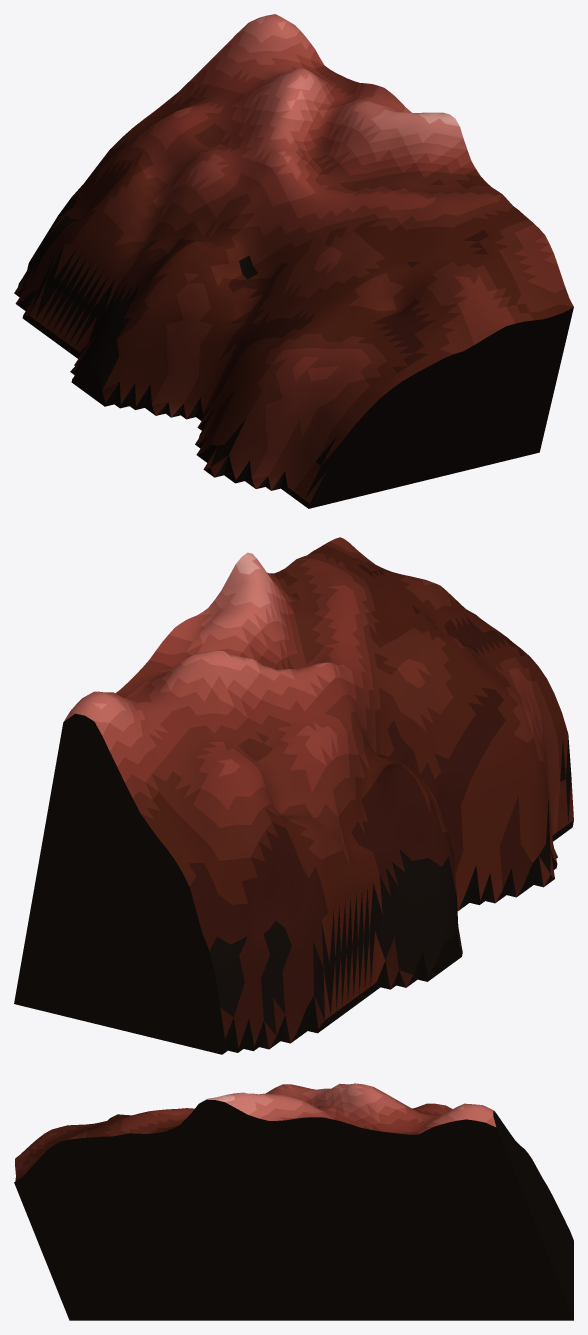
Rendered from brain_mid_1.glb.
3 renders of one model, top to bottom at view 1: azimuth 30°, elevation 25°; view 2: azimuth 150°, elevation 25°; view 3: azimuth 270°, elevation 25°, orthographic. The views are drawn at different scales.
Parts seen in each view (by area): view 1: brain_mid_1; view 2: brain_mid_1; view 3: brain_mid_1.
Boxes of the visible parts, x1=… form: brain_mid_1: x1=14, y1=14, x2=573, y2=508; brain_mid_1: x1=14, y1=537, x2=573, y2=1054; brain_mid_1: x1=14, y1=1083, x2=573, y2=1320.
Size of the model in its own units: 14.5 by 13.52 by 31.08.
